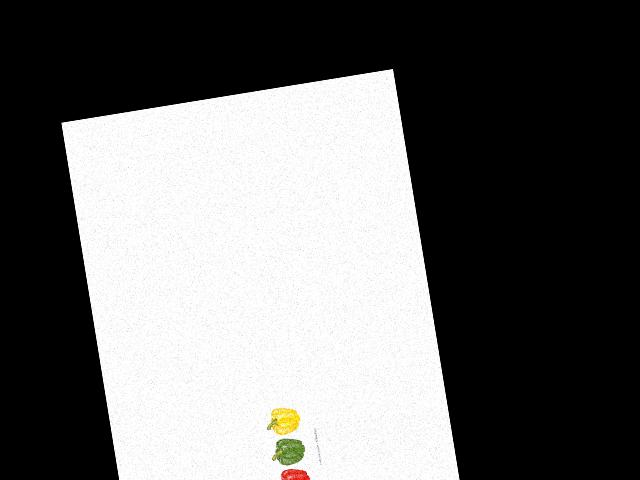bell_pepper: (264, 403, 305, 438)
